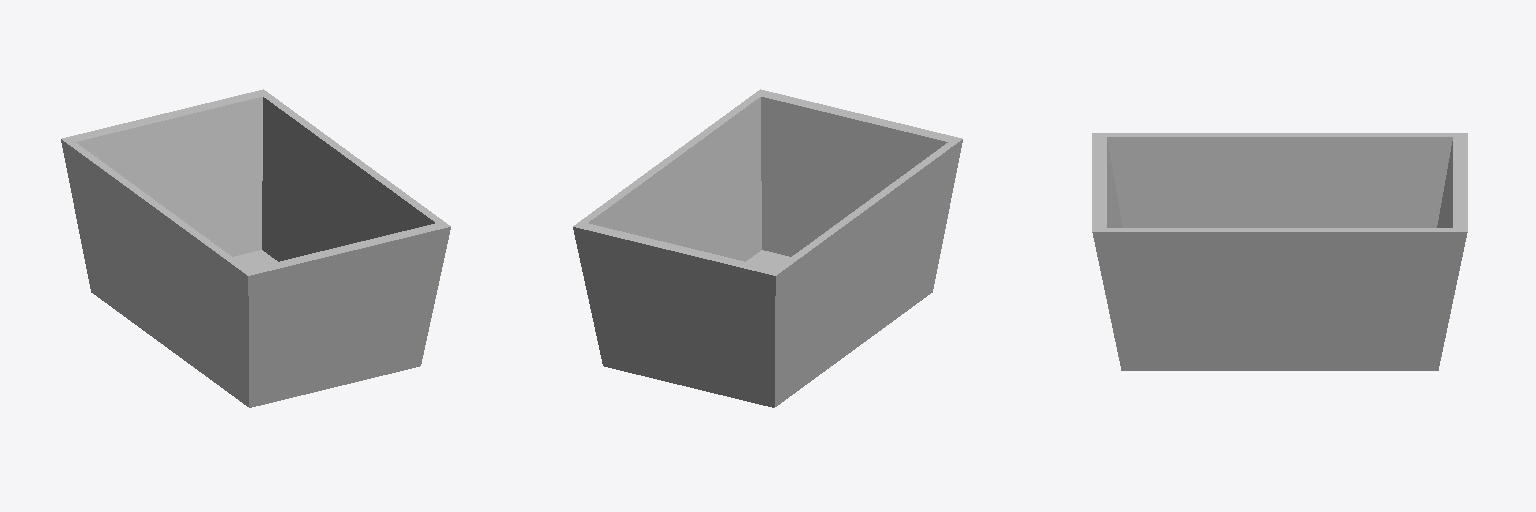
The model's file is chest.obj.
3 views of the same model, side by side, from view 1: azimuth 30°, elevation 25°; view 2: azimuth 150°, elevation 25°; view 3: azimuth 270°, elevation 25° (orthographic).
Visible parts, largest first — view 1: Cube.001_Cube.003; view 2: Cube.001_Cube.003; view 3: Cube.001_Cube.003.
Part boxes in pixels (left/top/right/bottom): Cube.001_Cube.003: left=61, top=89, right=450, bottom=407; Cube.001_Cube.003: left=573, top=89, right=962, bottom=407; Cube.001_Cube.003: left=1092, top=133, right=1467, bottom=370.
Size of the model in its own units: 2.34 by 1.61 by 3.74.